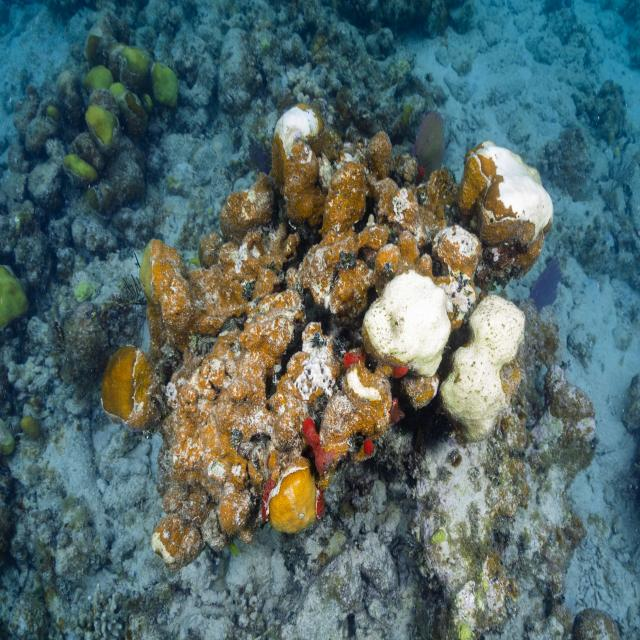Coral: (101, 101, 554, 570)
